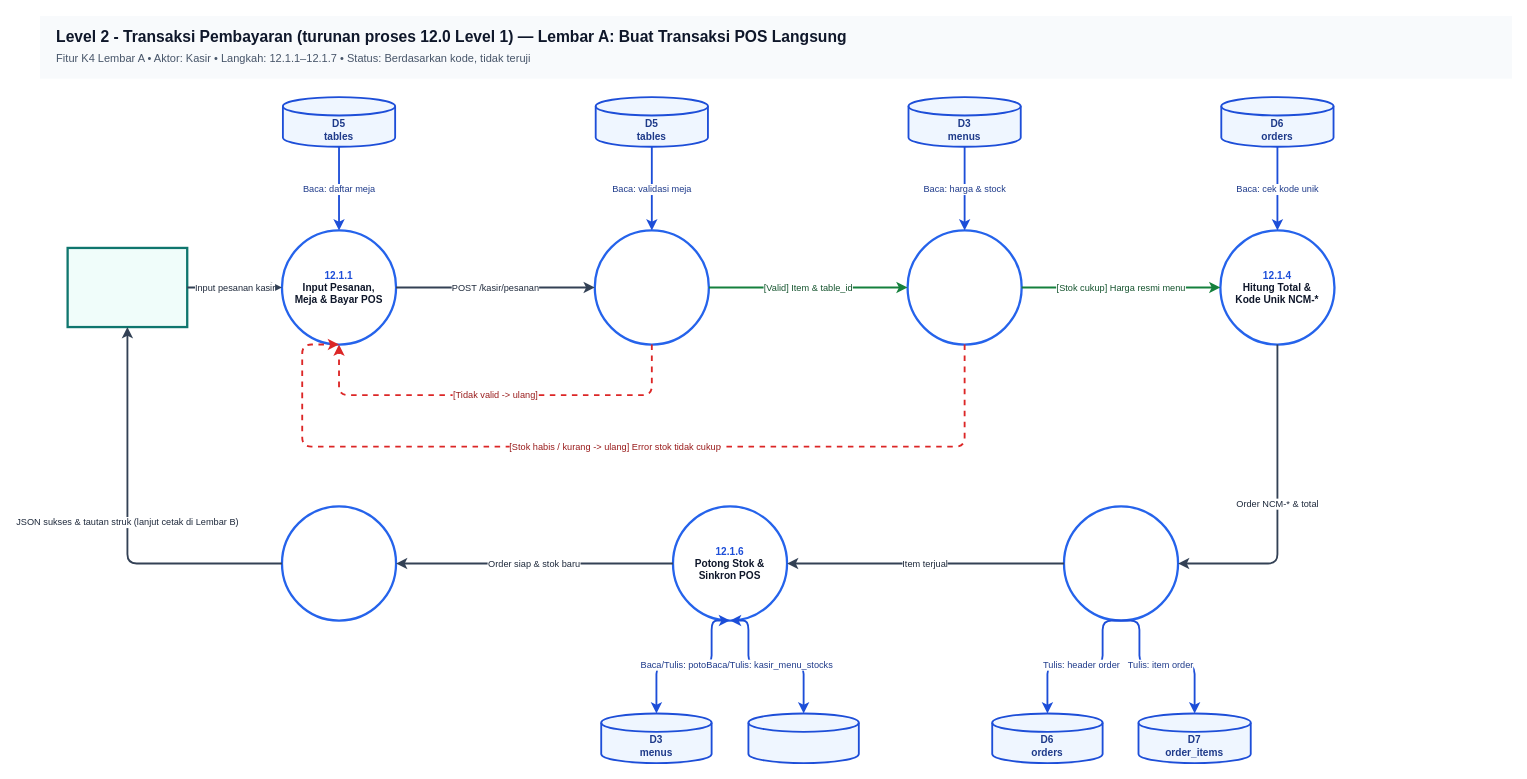
The diagram is 1527 pixels wide and 779 high, and some of its shapes have lost their labels. The centre of each missing label's shape, as x and y in pixels:
12.1.2 Validasi Form Order & Meja: (651,287)
12.1.3 Cek Ketersediaan & Stok Menu: (964,287)
12.1.5 Simpan Order & Rincian Item: (1120,563)
12.1.7 Kirim JSON Order & URL Struk: (338,563)
D16 settings: (803,738)
Kasir Operator POS: (127,287)
